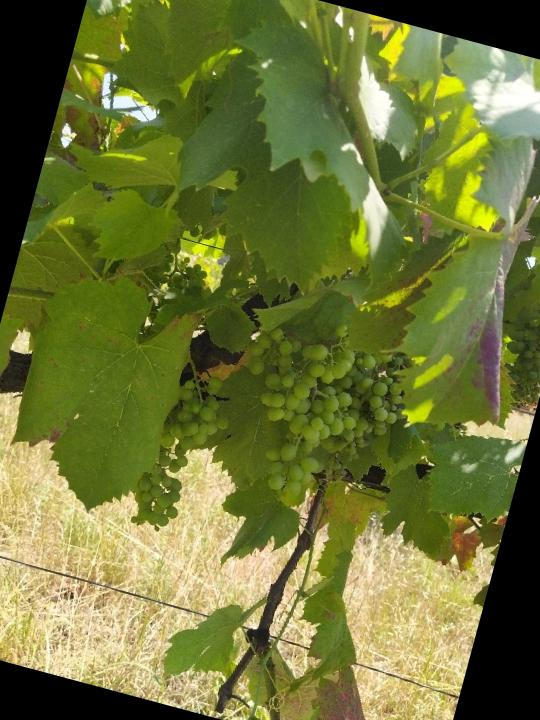grape: (214, 322, 419, 536), (126, 367, 239, 545)
